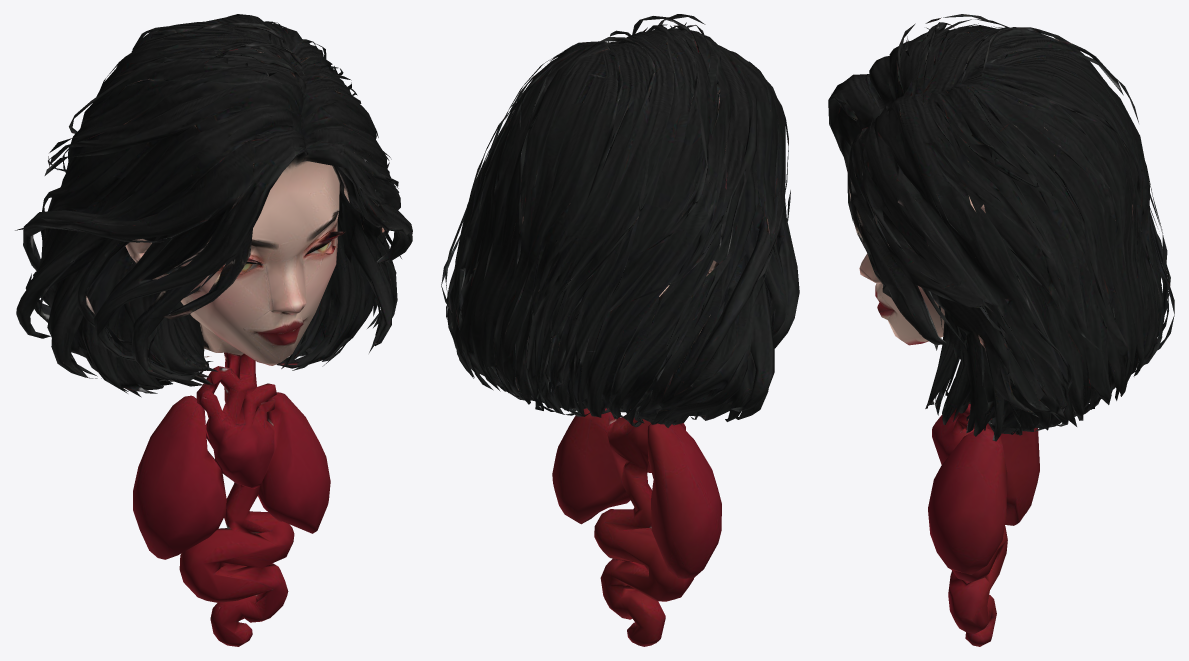
Rendered from krasue.glb.
3 renders of one model, left to right at view 1: azimuth 30°, elevation 25°; view 2: azimuth 150°, elevation 25°; view 3: azimuth 270°, elevation 25°, orthographic.
Visible parts, largest first — view 1: krasueSource; view 2: krasueSource; view 3: krasueSource.
Boxes of the visible parts, x1,y1,x2,y2 form: krasueSource: [15, 14, 412, 646]; krasueSource: [441, 14, 799, 646]; krasueSource: [828, 14, 1174, 646].
Bounding box in the file's own units: 1.12 × 1.9 × 0.9727.
1 material, 1 textured.
